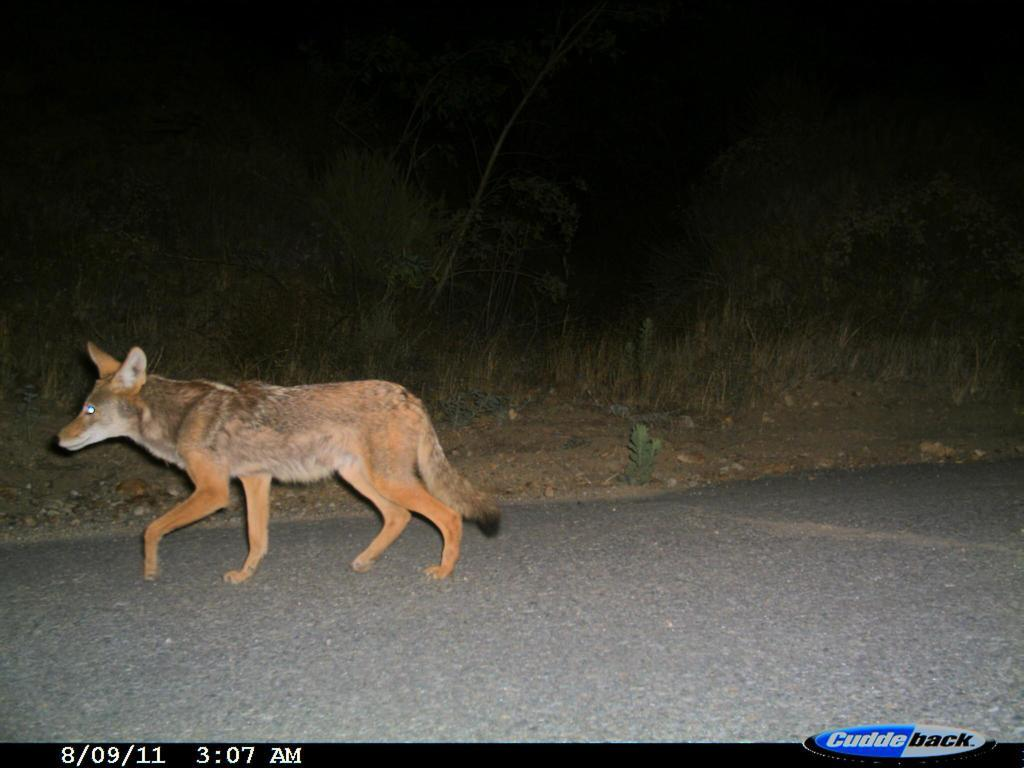coyote: (47, 331, 530, 606)
